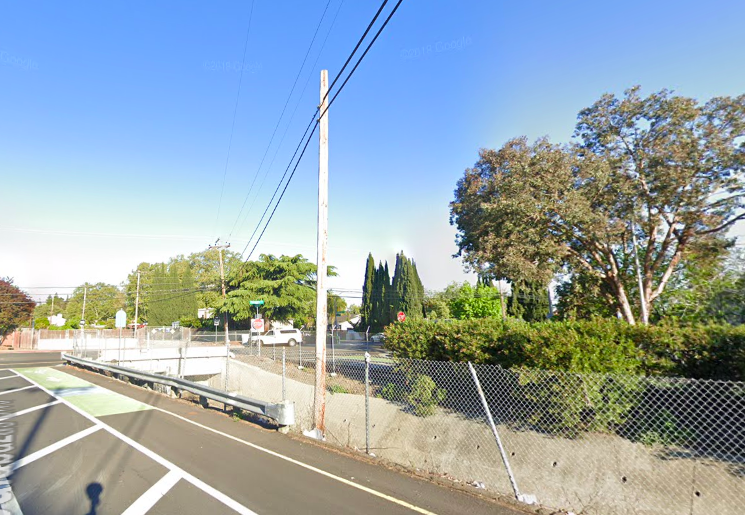tree: (447, 84, 745, 326)
utility_pole: (303, 58, 343, 152)
